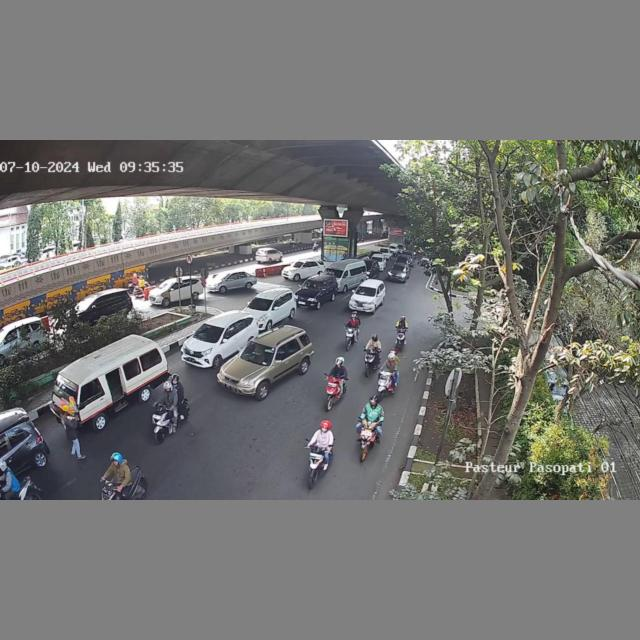windshield: (240, 342, 277, 365), (193, 324, 224, 342), (247, 297, 274, 311), (302, 281, 323, 294), (355, 286, 377, 297)
